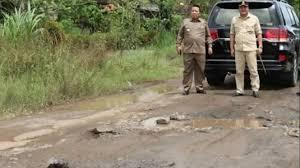Pothole: (30, 75, 175, 119), (127, 106, 277, 135), (0, 128, 71, 153)
